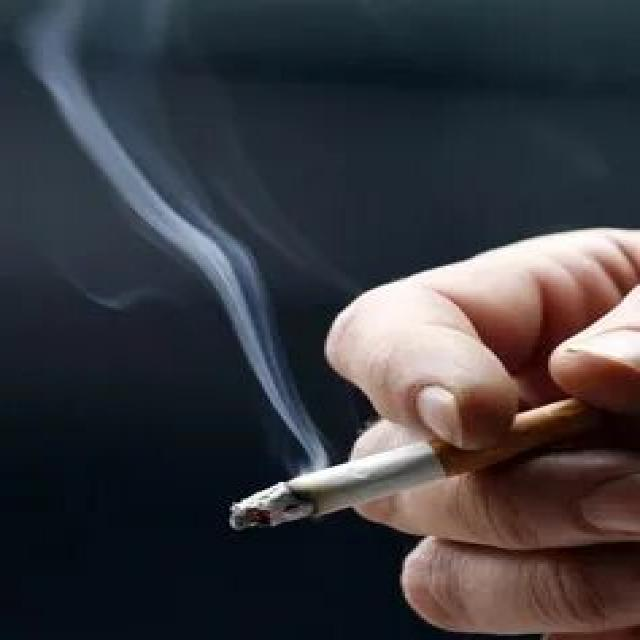cigarette: (221, 388, 613, 540)
